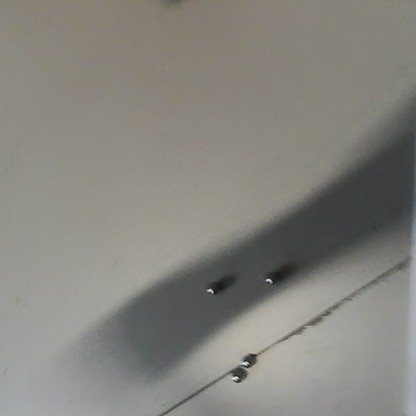ironball: (261, 268, 279, 287), (238, 349, 256, 368), (201, 280, 217, 299), (228, 363, 244, 382)
